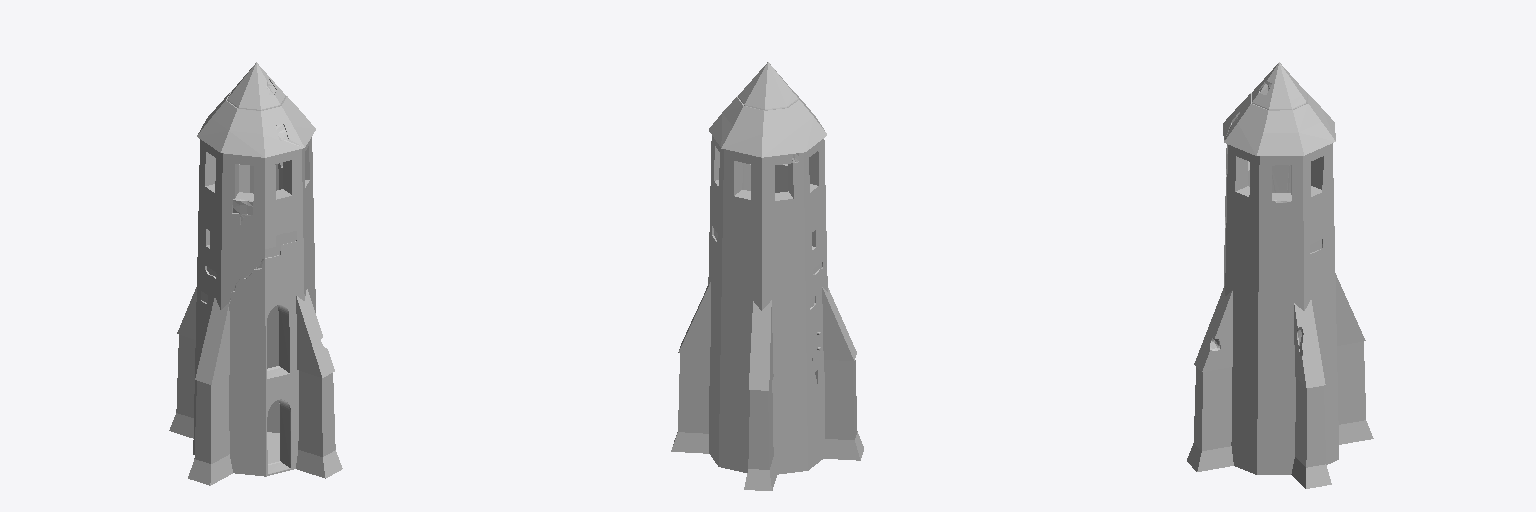
Rendered from lighhouse.obj.
3 renders of one model, left to right at view 1: azimuth 30°, elevation 25°; view 2: azimuth 150°, elevation 25°; view 3: azimuth 270°, elevation 25°, orthographic.
Visible parts, largest first — view 1: NGon003, Object001, Rectangle004, Rectangle002, Rectangle008; view 2: NGon003, Object001, Rectangle002, Rectangle008, Rectangle006; view 3: NGon003, Object001, Rectangle004, Rectangle006, Rectangle008.
Part boxes in pixels (bbox=[...]): NGon003: bbox=[193, 137, 315, 476]; Object001: bbox=[197, 62, 315, 157]; Rectangle004: bbox=[296, 289, 342, 478]; Rectangle002: bbox=[188, 298, 232, 485]; Rectangle008: bbox=[169, 287, 196, 438]; NGon003: bbox=[708, 136, 827, 474]; Object001: bbox=[709, 62, 826, 157]; Rectangle002: bbox=[822, 287, 863, 460]; Rectangle008: bbox=[744, 300, 776, 490]; Rectangle006: bbox=[671, 282, 710, 453]; NGon003: bbox=[1224, 143, 1338, 474]; Object001: bbox=[1223, 62, 1335, 155]; Rectangle004: bbox=[1187, 286, 1233, 471]; Rectangle006: bbox=[1291, 300, 1331, 488]; Rectangle008: bbox=[1335, 273, 1373, 444].
Bounding box in the file's own units: 5731 × 13200 × 5778.